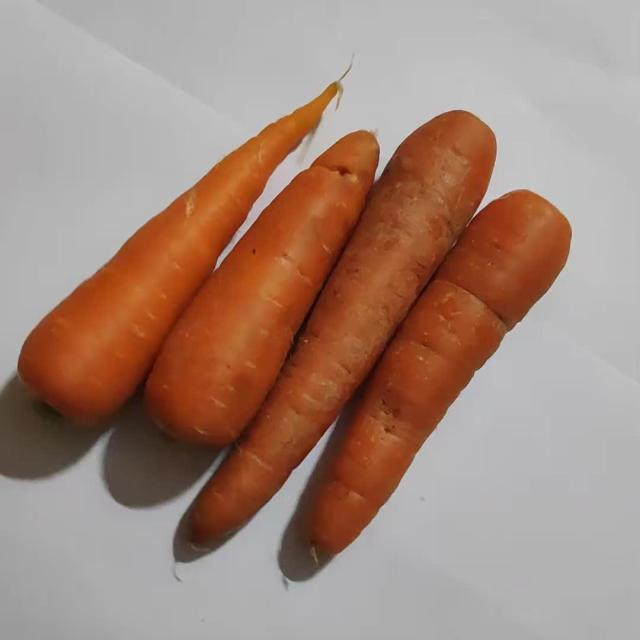Carrot: (190, 111, 495, 546), (18, 84, 338, 423), (310, 191, 571, 559), (145, 131, 379, 446)
